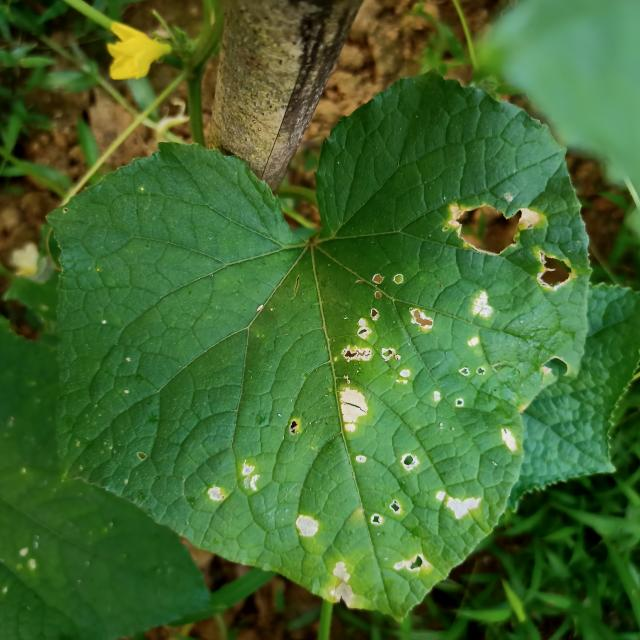disease_cucumber: (333, 268, 436, 365), (438, 189, 547, 260), (332, 373, 376, 439), (203, 461, 269, 505), (456, 287, 497, 352), (530, 250, 578, 295), (433, 486, 484, 524), (326, 558, 358, 608), (367, 496, 406, 528), (391, 547, 430, 577), (292, 508, 326, 542), (498, 423, 522, 458), (395, 452, 420, 473), (392, 370, 413, 388)
